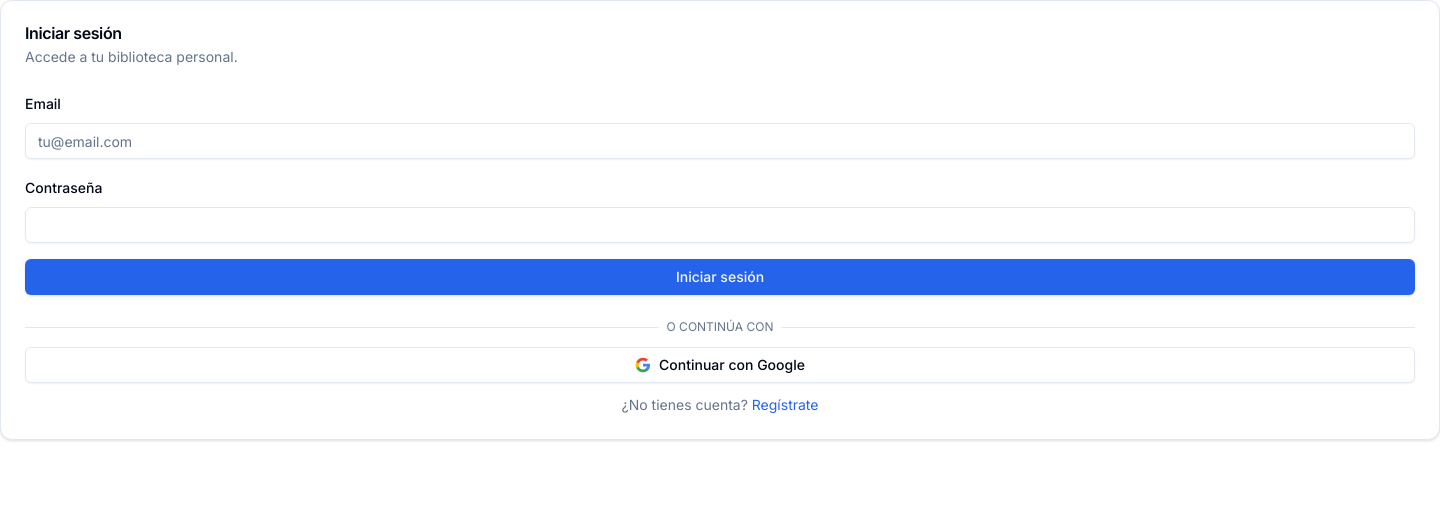
it: LoginForm › validates the form and does not submit when invalid
The image size is (1440, 514).
Click the button "Iniciar sesión": (720, 277) x1=25 y1=259 x2=1415 y2=295
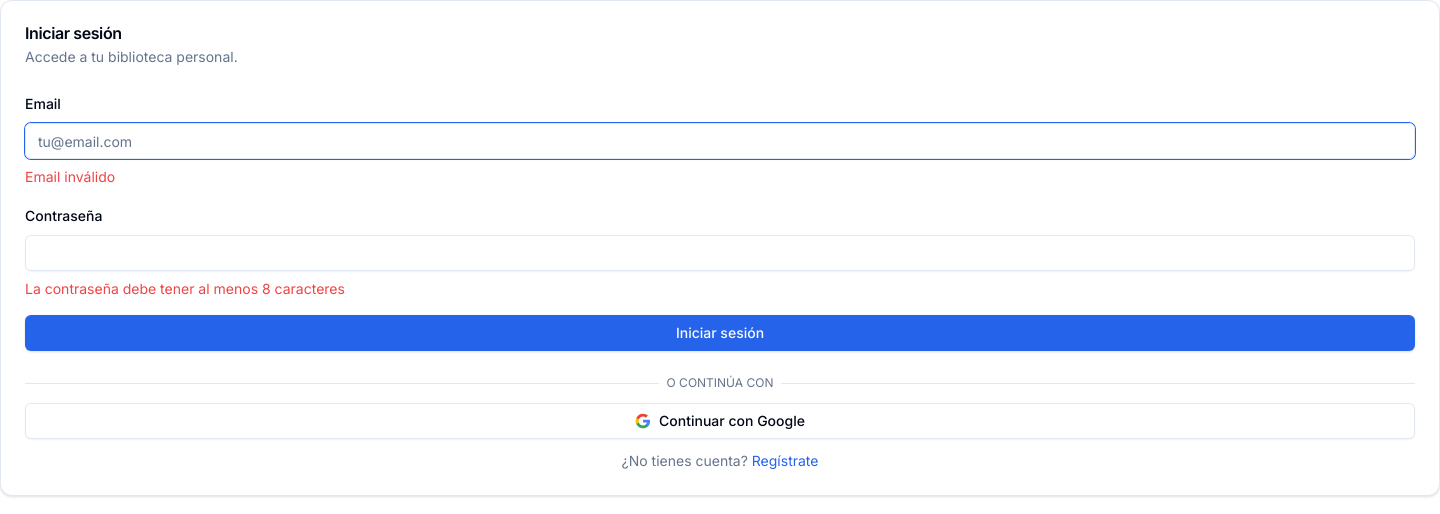
Expected: the text "Email inválido" is shown, x1=25 y1=168 x2=115 y2=185
